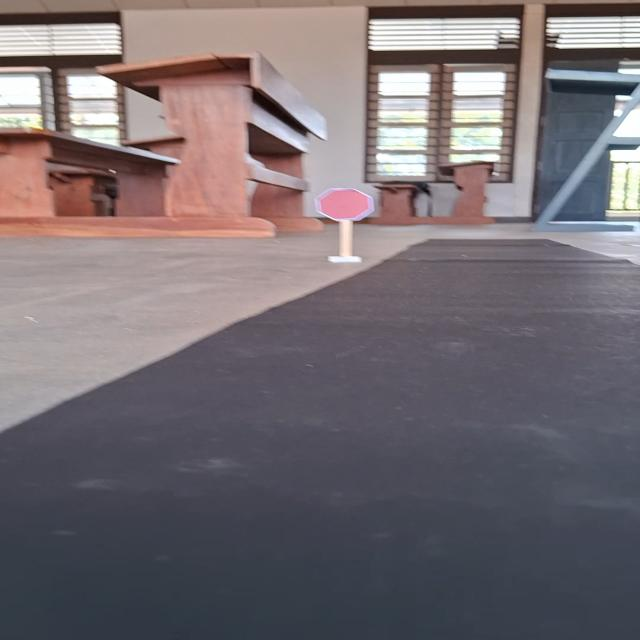Stop: (311, 186, 377, 222)
